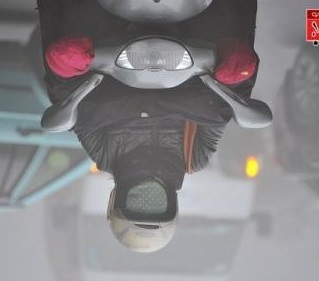person: (67, 90, 236, 252)
